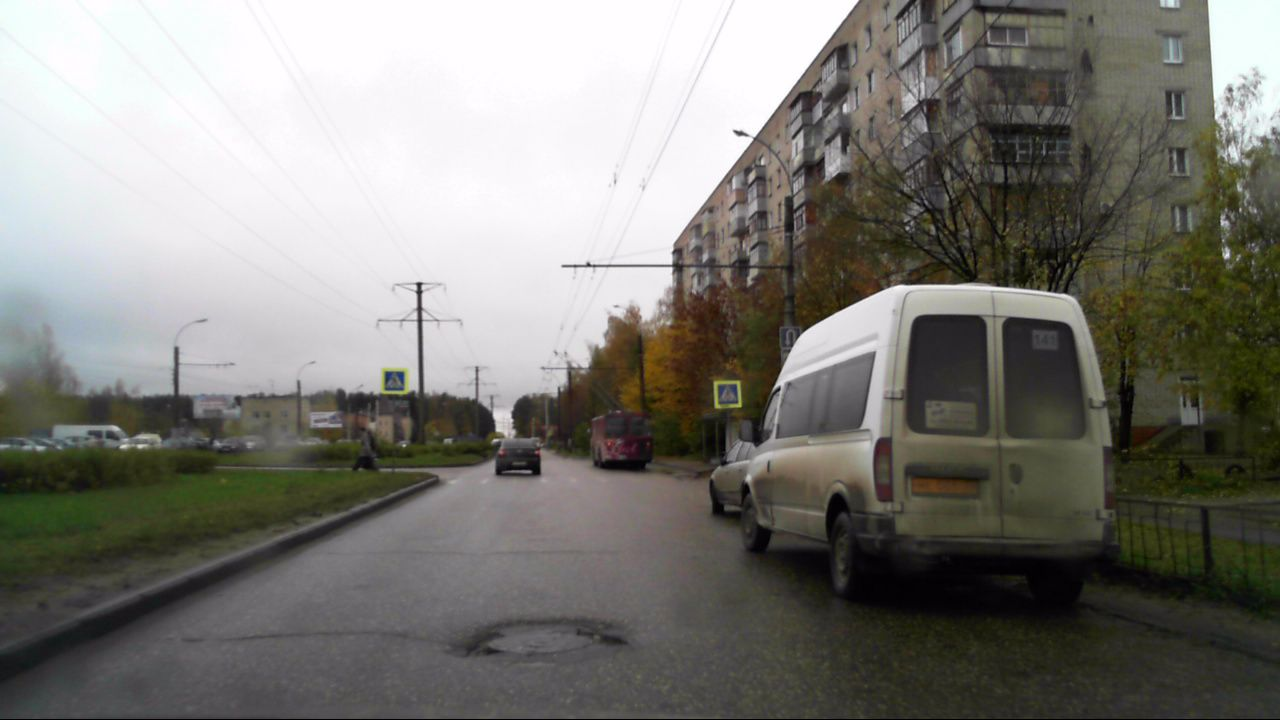U-turn: (780, 327, 800, 348)
